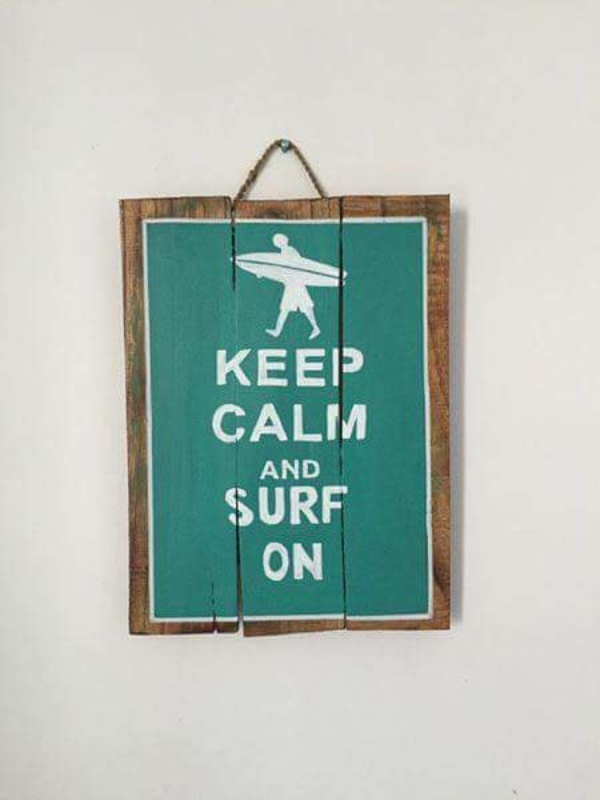text: (225, 485, 240, 527), (241, 485, 256, 527), (257, 485, 272, 527), (273, 485, 288, 527), (289, 485, 304, 527), (305, 485, 320, 527), (321, 485, 336, 527), (273, 541, 288, 583), (289, 541, 304, 583), (305, 541, 320, 583), (225, 402, 240, 443), (241, 402, 256, 443), (257, 402, 272, 443), (273, 402, 288, 443), (289, 402, 304, 443), (305, 402, 320, 443), (321, 402, 336, 443), (337, 402, 352, 443), (225, 347, 240, 387), (241, 347, 256, 387), (257, 347, 272, 387), (273, 347, 288, 387), (289, 347, 304, 387), (305, 347, 320, 387), (321, 347, 336, 387), (337, 347, 352, 387), (210, 402, 224, 443), (353, 402, 366, 443), (353, 347, 365, 387), (337, 485, 347, 527), (262, 541, 272, 583), (305, 456, 321, 481), (273, 456, 288, 481), (289, 456, 304, 481), (215, 347, 224, 387), (258, 456, 272, 481), (321, 541, 323, 583), (223, 485, 224, 527)
